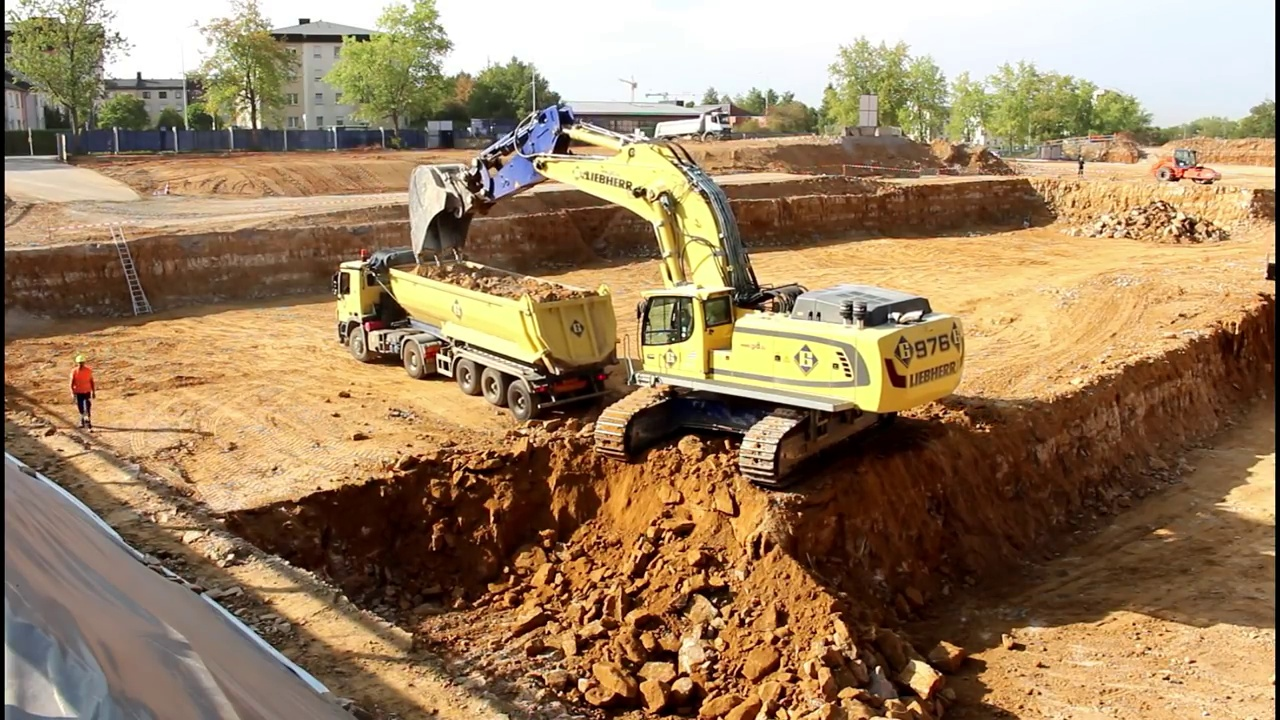dumper: (332, 248, 615, 418)
excavator: (409, 100, 966, 485)
person: (70, 353, 99, 431), (1074, 152, 1083, 172)
